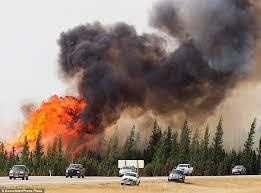fire: (1, 95, 90, 157)
